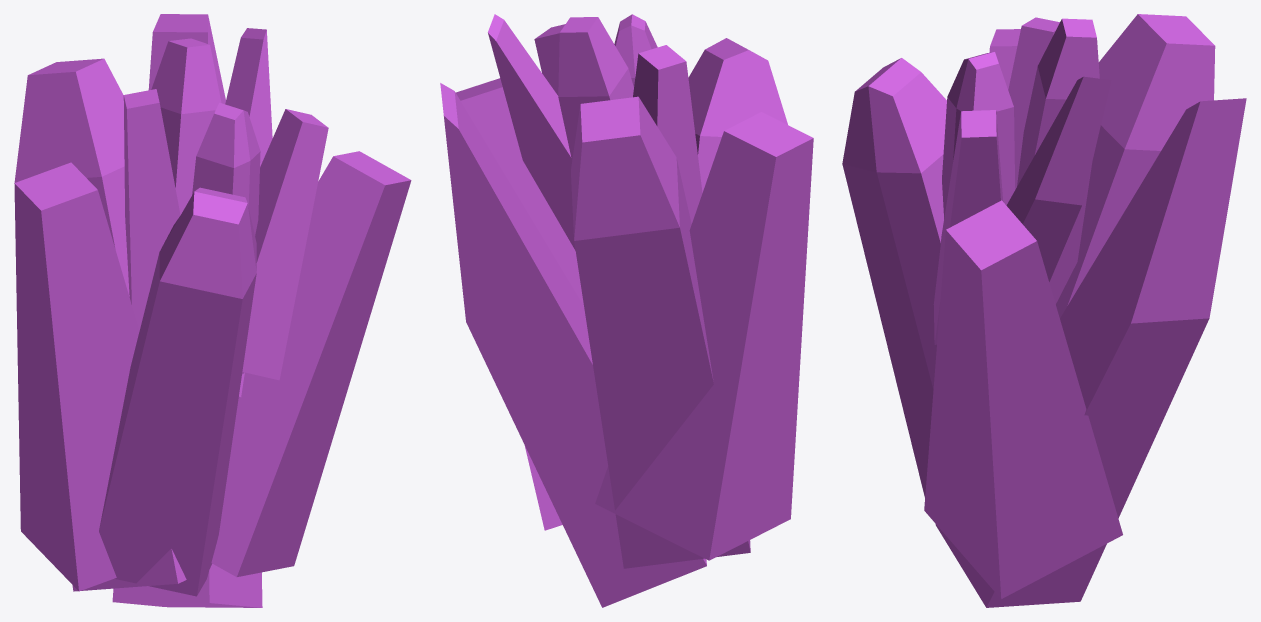
Rendered from ENV_Crystals01.fbx.
3 views of the same model, side by side, from view 1: azimuth 30°, elevation 25°; view 2: azimuth 150°, elevation 25°; view 3: azimuth 270°, elevation 25° (orthographic). The views are drawn at different scales.
Visible parts, largest first — view 1: Cube.007; view 2: Cube.007; view 3: Cube.007.
Part boxes in pixels (x1,y1,x2,y2): Cube.007: [14, 14, 411, 607]; Cube.007: [440, 14, 813, 607]; Cube.007: [842, 14, 1246, 607].
Bounding box in the file's own units: 28.11 × 30.54 × 45.24.
